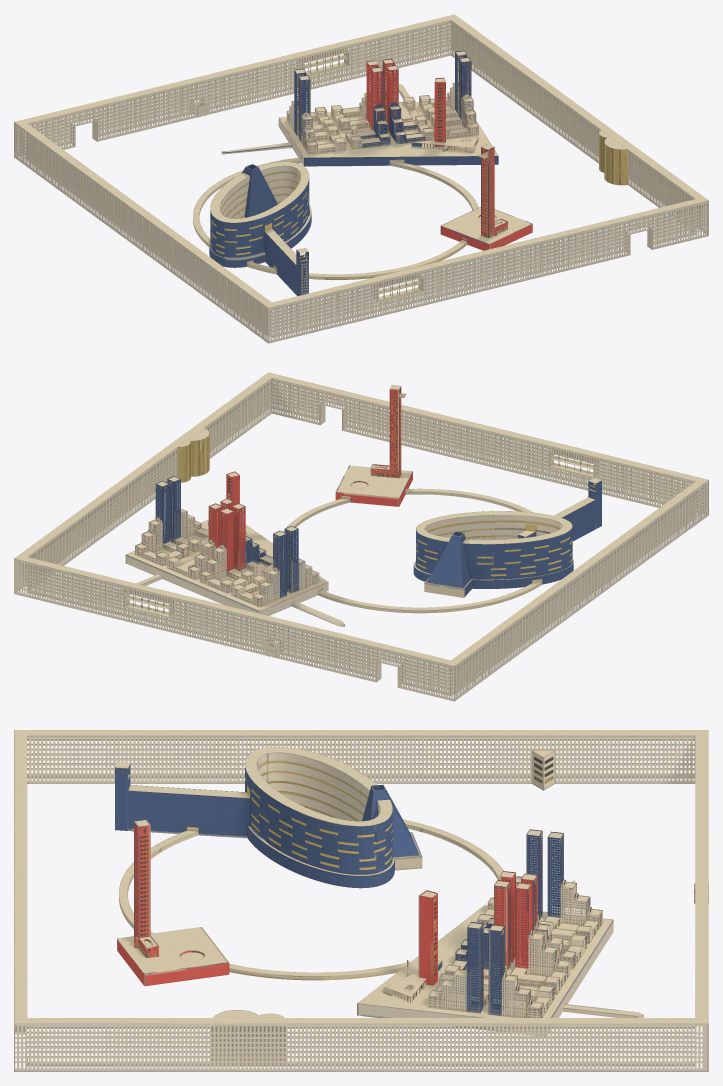
File: Phalanstery-light.glb
3 renders of one model, top to bottom at view 1: azimuth 30°, elevation 25°; view 2: azimuth 150°, elevation 25°; view 3: azimuth 270°, elevation 25°, orthographic. The views are drawn at different scales.
Parts seen in each view (by area): view 1: bakegroup_zone-perimeter, bakegroup_zone-city, bakegroup_zone-ellipse, bakegroup_zone-tower, bakegroup_zone-connections; view 2: bakegroup_zone-perimeter, bakegroup_zone-city, bakegroup_zone-ellipse, bakegroup_zone-tower, bakegroup_zone-connections; view 3: bakegroup_zone-perimeter, bakegroup_zone-city, bakegroup_zone-ellipse, bakegroup_zone-tower, bakegroup_zone-connections.
Boxes of the visible parts, left/top/right/bottom form: bakegroup_zone-perimeter: left=14, top=14, right=708, bottom=343; bakegroup_zone-city: left=221, top=50, right=498, bottom=166; bakegroup_zone-ellipse: left=209, top=161, right=311, bottom=295; bakegroup_zone-tower: left=440, top=144, right=532, bottom=250; bakegroup_zone-connections: left=193, top=155, right=627, bottom=279; bakegroup_zone-perimeter: left=14, top=372, right=708, bottom=701; bakegroup_zone-city: left=117, top=471, right=344, bottom=626; bakegroup_zone-ellipse: left=413, top=478, right=601, bottom=596; bakegroup_zone-tower: left=335, top=385, right=412, bottom=506; bakegroup_zone-connections: left=181, top=472, right=542, bottom=613; bakegroup_zone-perimeter: left=14, top=730, right=708, bottom=1071; bakegroup_zone-city: left=357, top=829, right=643, bottom=1036; bakegroup_zone-ellipse: left=115, top=747, right=419, bottom=888; bakegroup_zone-tower: left=117, top=819, right=229, bottom=986; bakegroup_zone-connections: left=119, top=787, right=538, bottom=980.
Size of the model in its own units: 951 by 201 by 952.
Materials: 1 (1 with a texture image).
